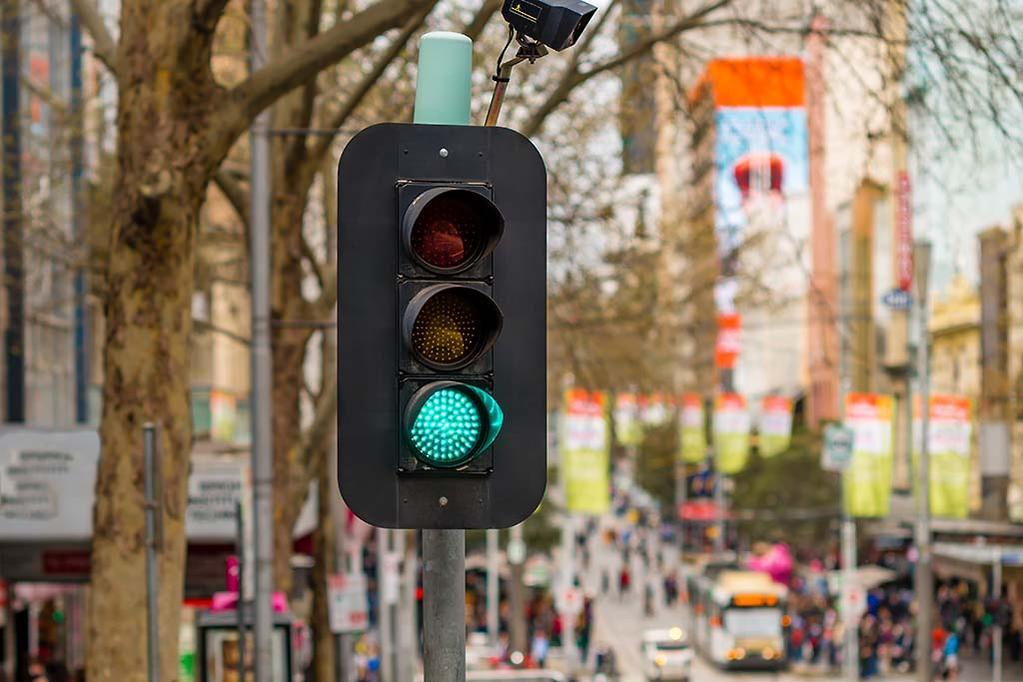traffic light: (292, 91, 594, 564)
